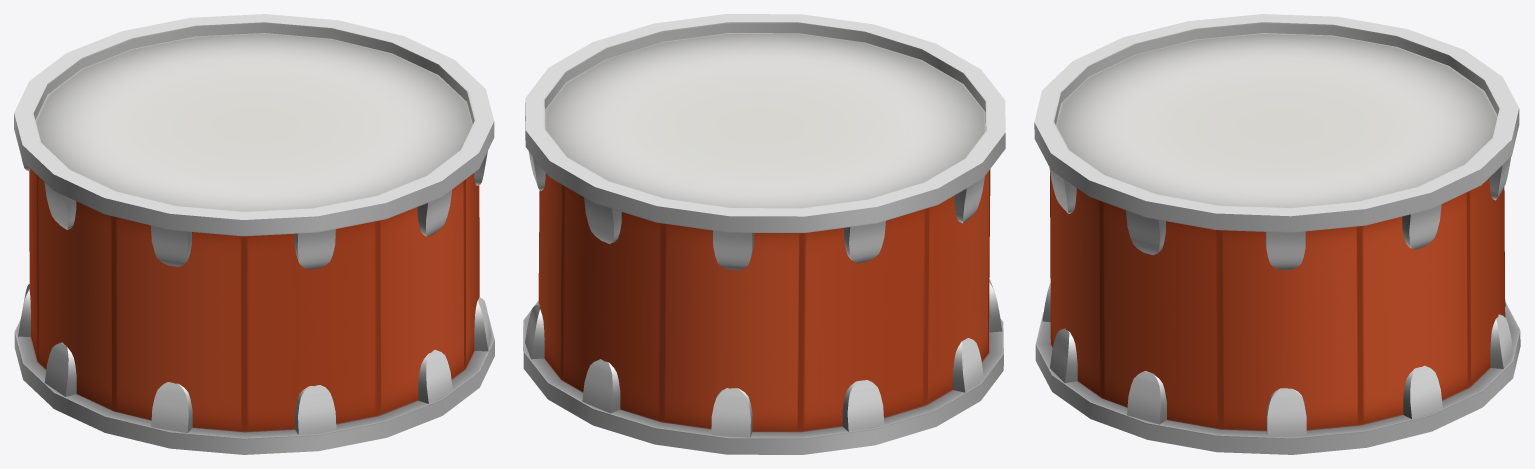
Rendered from drum.FBX.
The picture shows the model from 3 angles, left to right: view 1: azimuth 30°, elevation 25°; view 2: azimuth 150°, elevation 25°; view 3: azimuth 270°, elevation 25°; orthographic projection.
Parts seen in each view (by area): view 1: drum; view 2: drum; view 3: drum.
Part boxes in pixels (left/top/right/bottom): drum: left=14, top=14, right=494, bottom=454; drum: left=523, top=14, right=1005, bottom=454; drum: left=1034, top=14, right=1520, bottom=454.
Bounding box in the file's own units: 41.25 × 22.6 × 41.23.
